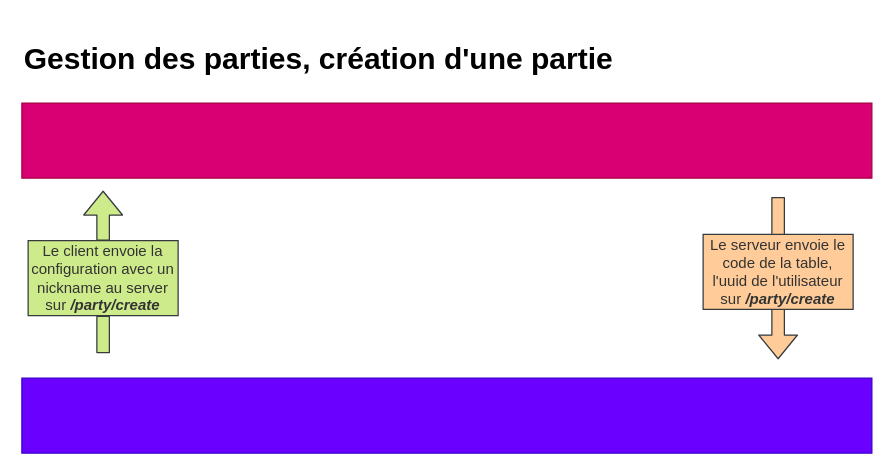
The diagram is 894 pixels wide and 475 high, and some of its shapes have lost their labels. The centre of each missing label's shape, as x and y in pixels:
"Websocket Client" goes at point 446,415.
"Websocket Server" goes at point 446,140.
